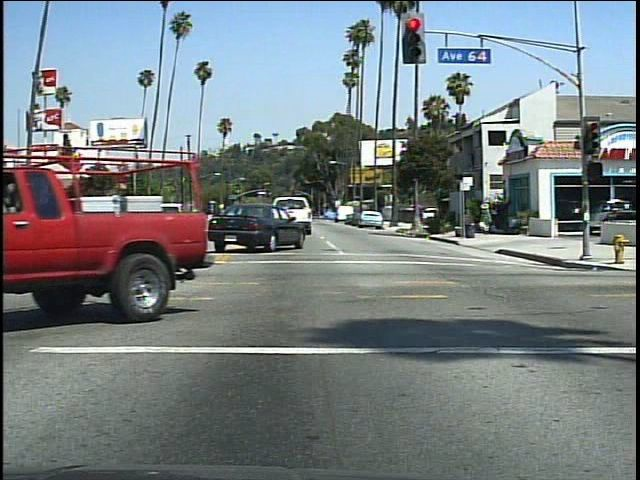person: (477, 199, 498, 238)
